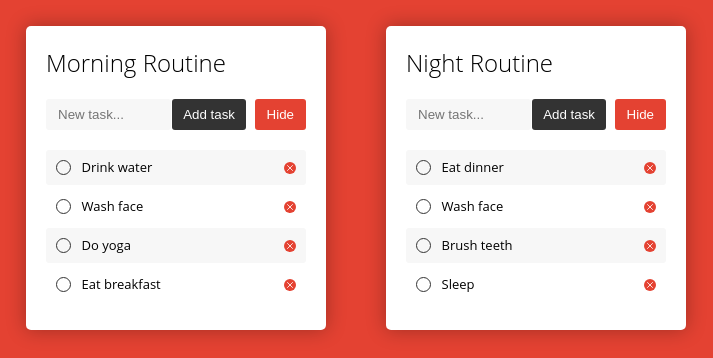
Add a task › Adds a new morning task
This screenshot has width=713, height=358.
Type "Eat some fruit" into the field with class "inputMorning".
click(109, 115); type("Eat some fruit")  # box [46,99,171,130]
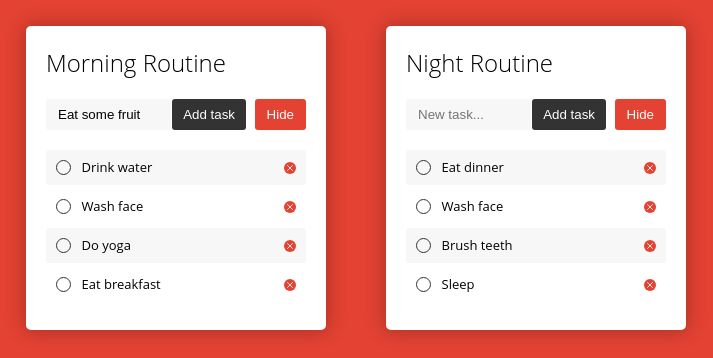
Click the button with class "buttonMorning".
click(209, 115)  # box [172,99,246,130]
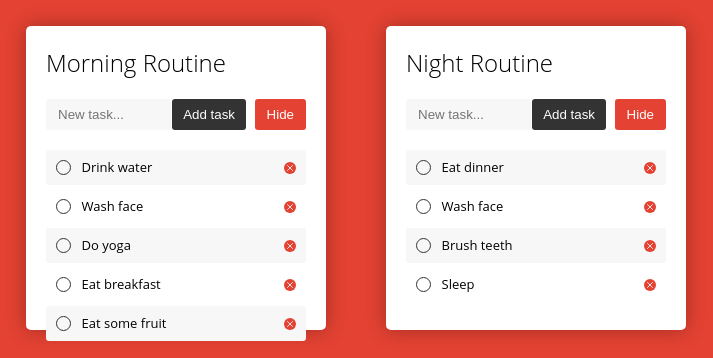
Check: the text "Eat some fruit" is shown, box [82,314,166,332]
